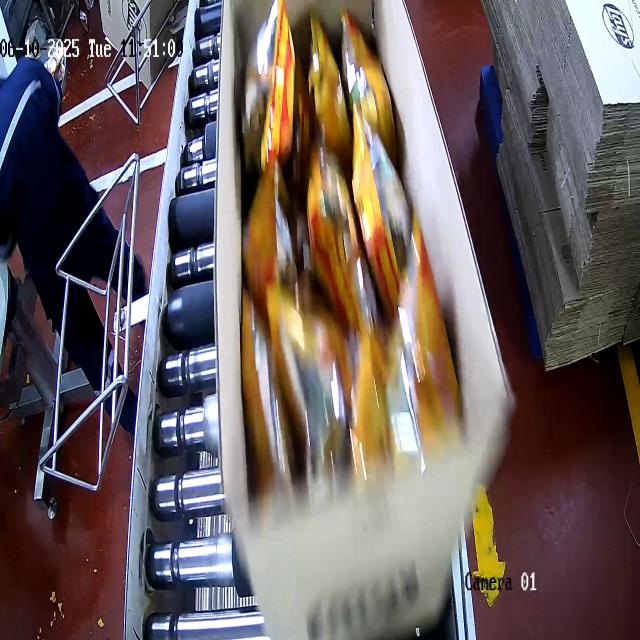FRENCH_CHEESE: (235, 20, 442, 428)
